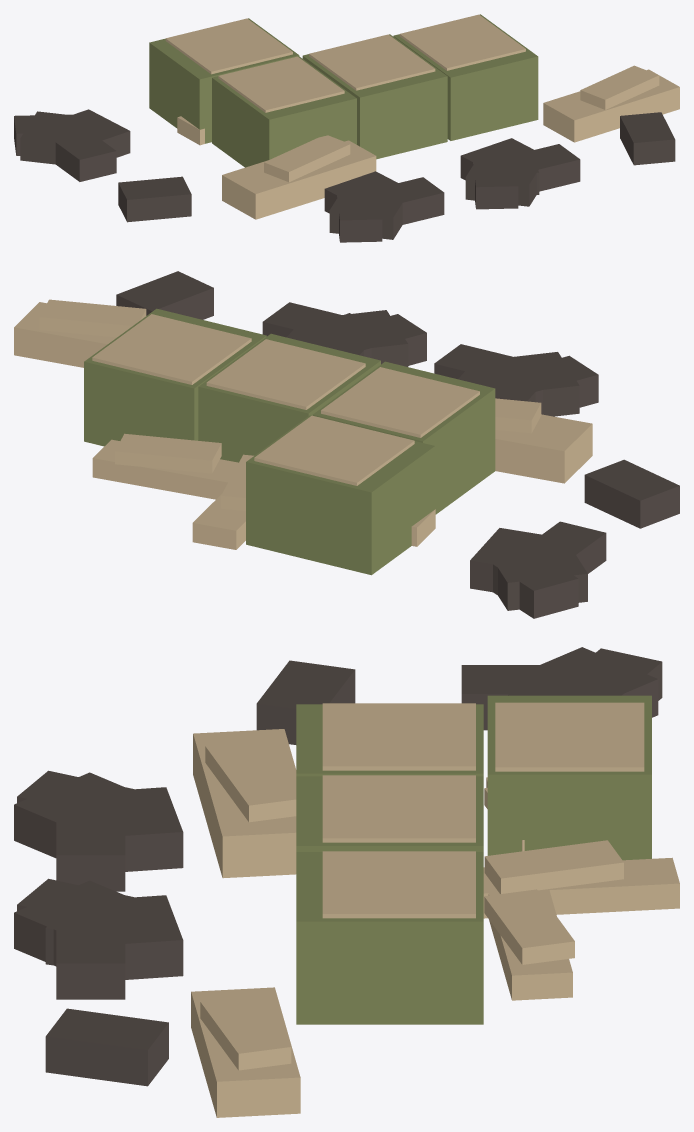
The model's file is SM_HescoRemate_v0_MallaLimpia_e2_MuyDanado_LOD1.fbx.
The picture shows the model from 3 angles, top to bottom: view 1: azimuth 30°, elevation 25°; view 2: azimuth 150°, elevation 25°; view 3: azimuth 270°, elevation 25°; orthographic projection. The views are drawn at different scales.
Parts seen in each view (by area): view 1: SM_hesco_piezas_v22_LOD1; view 2: SM_hesco_piezas_v22_LOD1; view 3: SM_hesco_piezas_v22_LOD1.
Boxes of the visible parts, <box> form: SM_hesco_piezas_v22_LOD1: <box>14,14,679,242</box>; SM_hesco_piezas_v22_LOD1: <box>14,271,679,618</box>; SM_hesco_piezas_v22_LOD1: <box>14,647,679,1117</box>.
Size of the model in its own units: 6.71 by 0.799 by 4.34.
